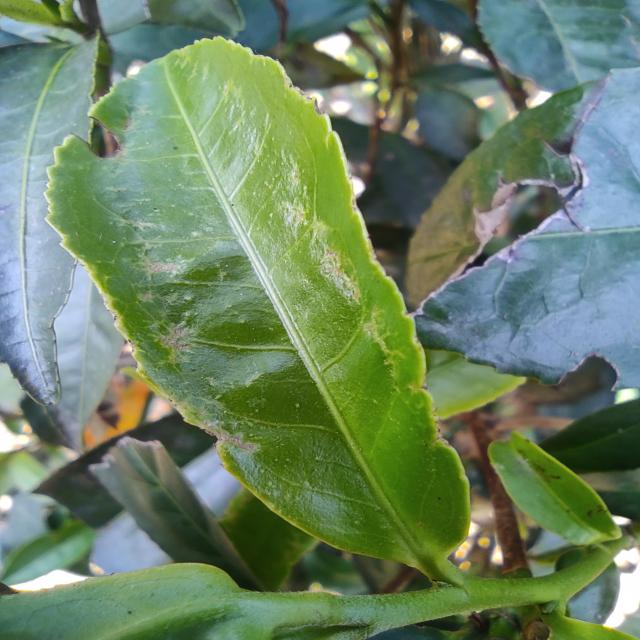Category C(4-7 days): (31, 28, 492, 576)
